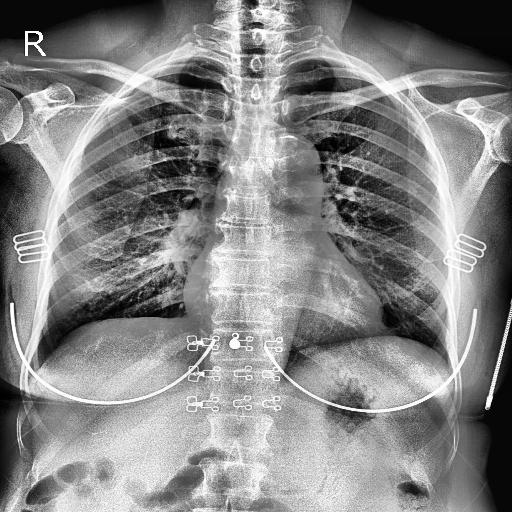0- Aortic enlargement: (254, 128, 324, 204), (258, 136, 326, 199), (270, 131, 326, 199)
